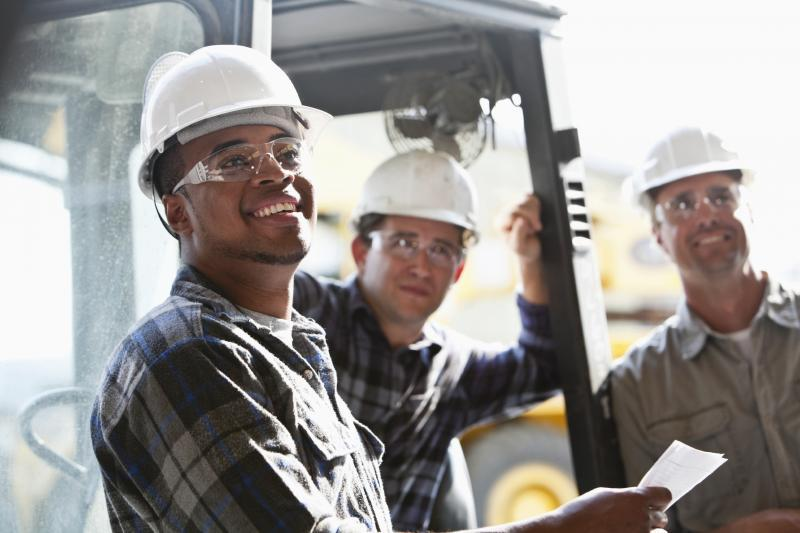epi: (94, 43, 375, 533), (322, 148, 539, 533), (600, 123, 798, 533)
